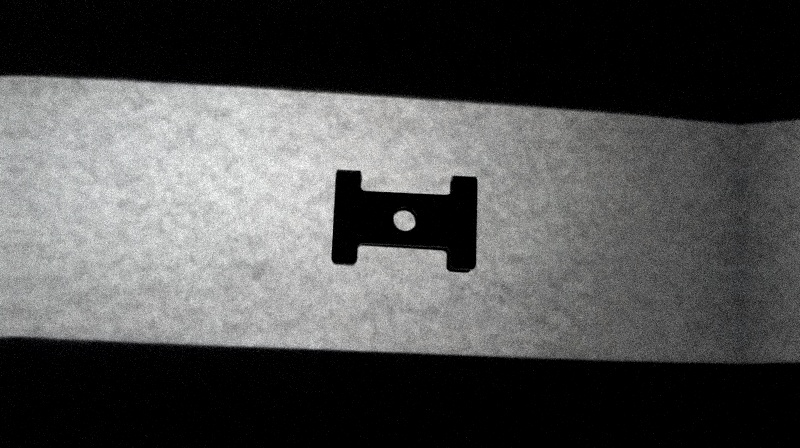O002: (330, 166, 483, 276)
